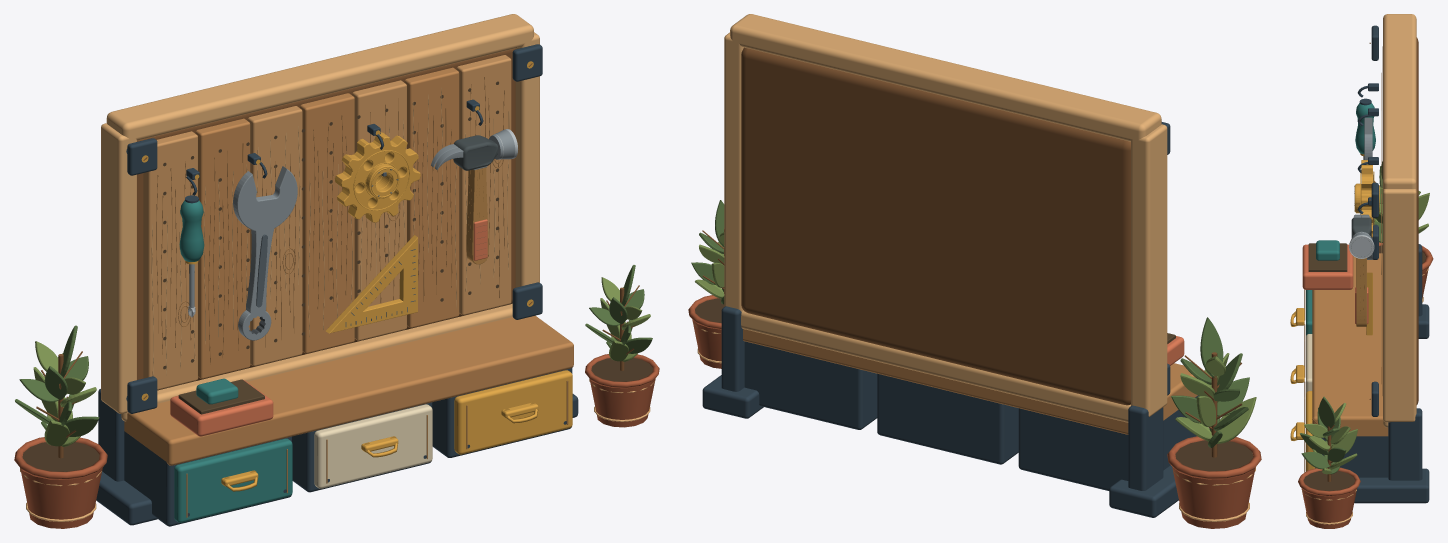
The model's file is workshop-tool-rack-final.glb.
3 renders of one model, left to right at view 1: azimuth 30°, elevation 25°; view 2: azimuth 150°, elevation 25°; view 3: azimuth 270°, elevation 25°, orthographic. The views are drawn at different scales.
Parts seen in each view (by area): view 1: timber, plank, edge, brass (×3), navy, pot (×2), teal, cream, grain, darkWood, steel, grainLight (+6 smaller); view 2: darkWood, edge, navy, pot (×2), timber, soil, Leaf_8, Leaf_1; view 3: edge, timber, navy, pot (×2), brass (×3), coral, darkWood, teal, soil, Wood_Handle, shadow, Teal_Handle (+13 smaller).
Part boxes in pixels (box(x1,y1,x2,y2)): timber: box(124, 67, 573, 465); plank: box(143, 55, 511, 389); edge: box(101, 14, 539, 421); brass (×3): box(141, 61, 572, 491); navy: box(96, 44, 578, 526); pot (×2): box(14, 354, 659, 528); teal: box(174, 378, 292, 522); cream: box(314, 404, 432, 488); grain: box(156, 77, 568, 517); darkWood: box(137, 48, 532, 398); steel: box(233, 166, 297, 340); grainLight: box(151, 88, 509, 375); darkWood: box(741, 47, 1130, 405); edge: box(724, 14, 1167, 422); navy: box(702, 122, 1199, 517); pot (×2): box(688, 295, 1261, 528); timber: box(743, 329, 1197, 434); soil: box(1175, 440, 1253, 471); Leaf_8: box(1200, 317, 1223, 377); Leaf_1: box(1217, 397, 1256, 443); edge: box(1383, 14, 1416, 427); timber: box(1312, 68, 1388, 436); navy: box(1315, 25, 1429, 503); pot (×2): box(1298, 242, 1433, 528); brass (×3): box(1290, 160, 1379, 471); coral: box(1302, 244, 1353, 289); darkWood: box(1369, 37, 1418, 404); teal: box(1306, 240, 1339, 335); soil: box(1303, 470, 1355, 490); Wood_Handle: box(1356, 258, 1366, 326); shadow: box(1308, 243, 1347, 271); Teal_Handle: box(1355, 103, 1375, 154).
Bounding box in the file's own units: 2.04 × 1.25 × 0.5082.
